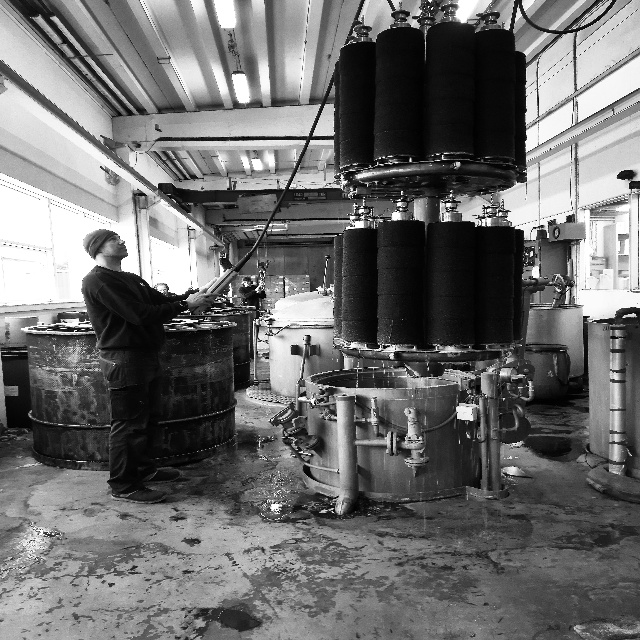Sin_guantes: (187, 288, 221, 307), (207, 276, 230, 300), (255, 287, 261, 292)
